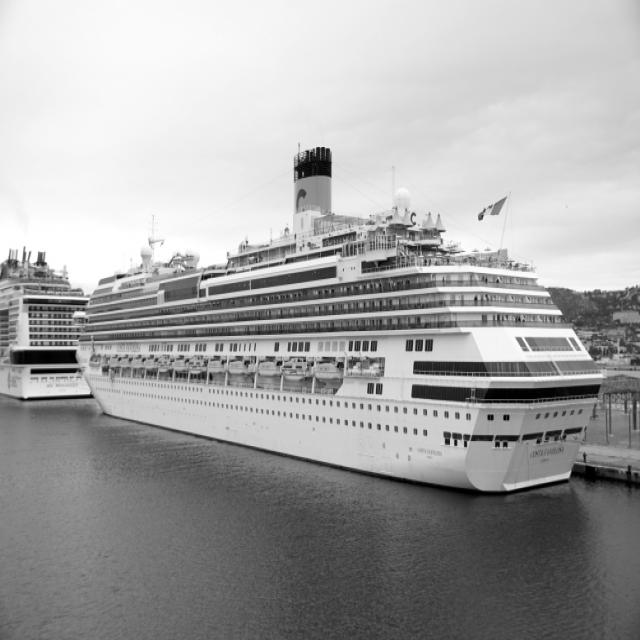cruises: (73, 144, 610, 510)
